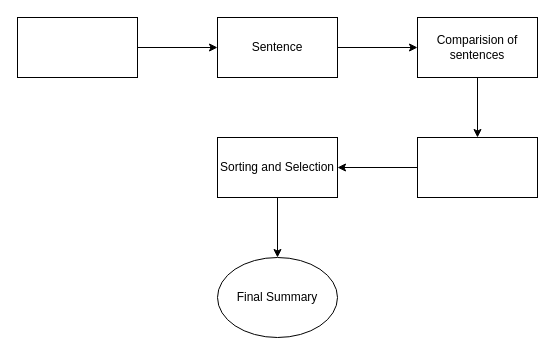
This 555x355 diagram has some shape labels left out. The centre of each missing label's shape, as x and y in pixels:
Document: point 77,47
Scoring of sentences: point 477,167
